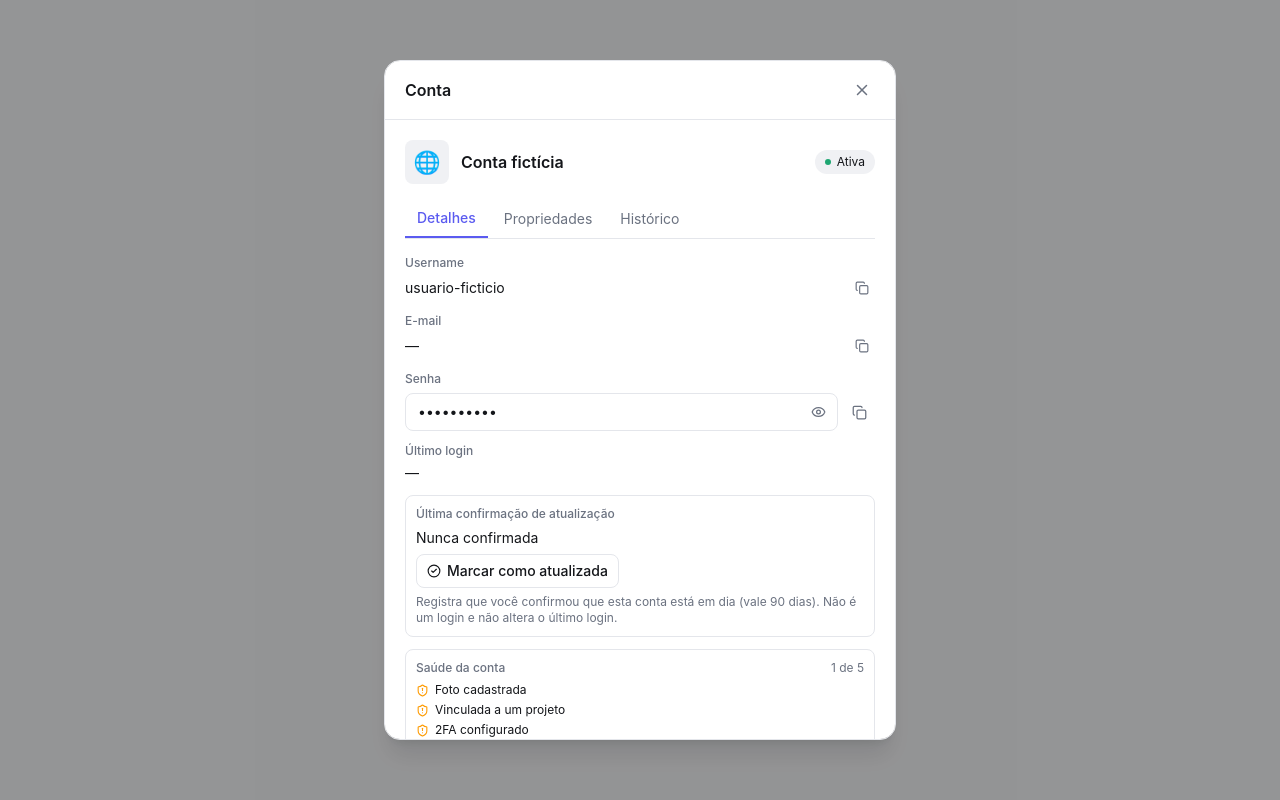
Scenario: AccountDetailModal — marcar como atualizada › the explicit button marks the account, shows the badge and the new expiry
The image size is (1280, 800).
Click the button "Marcar como atualizada" at (517, 571), box [416,554,619,588]
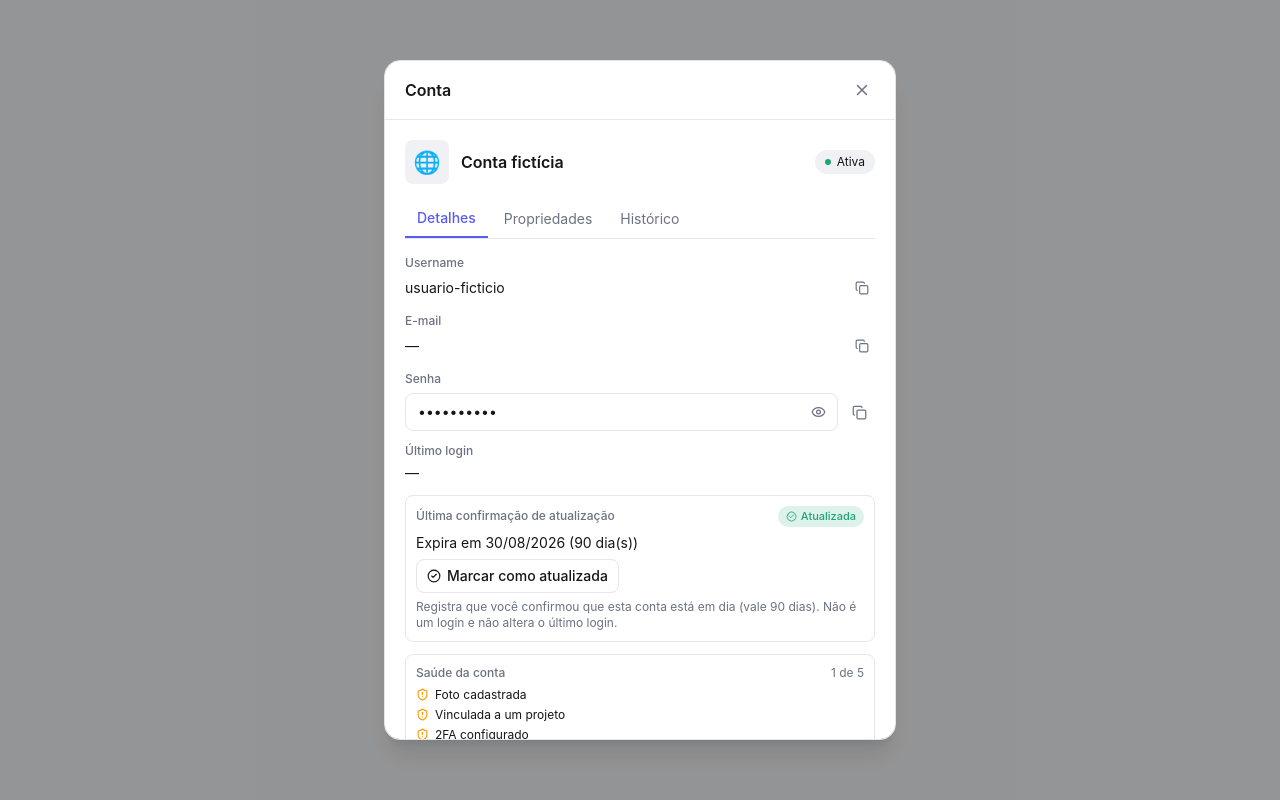
Check: the element with test id "updated-badge" is shown, box [778,506,864,526]
